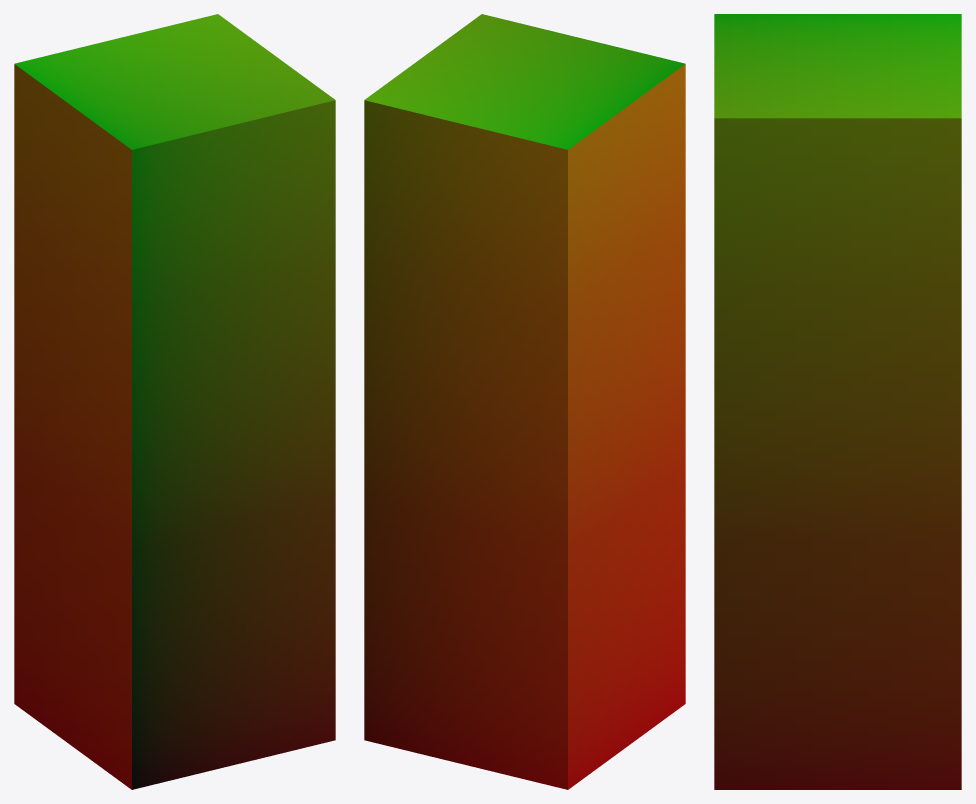
Rendered from wall.fbx.
3 views of the same model, side by side, from view 1: azimuth 30°, elevation 25°; view 2: azimuth 150°, elevation 25°; view 3: azimuth 270°, elevation 25° (orthographic). The views are drawn at different scales.
Visible parts, largest first — view 1: Cube; view 2: Cube; view 3: Cube.
Boxes of the visible parts, x1,y1,x2,y2 form: Cube: (14,14,335,789); Cube: (364,14,685,789); Cube: (714,14,961,789).
Size of the model in its own units: 100 by 300 by 100.
